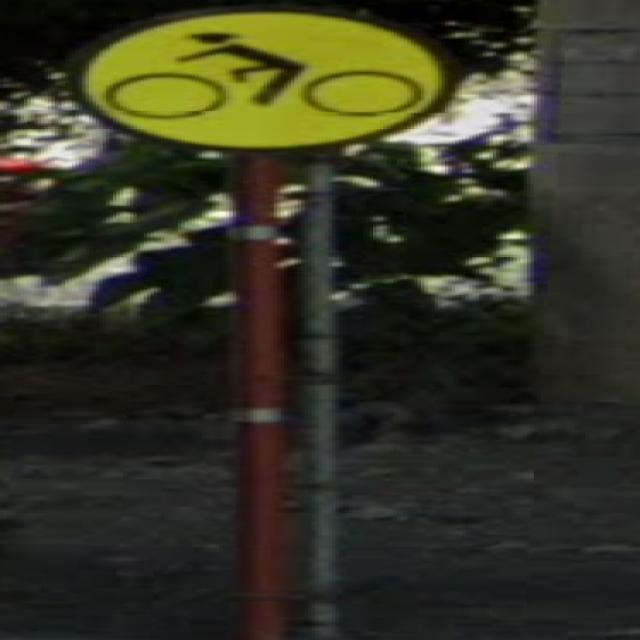bike lane: (65, 9, 459, 149)
